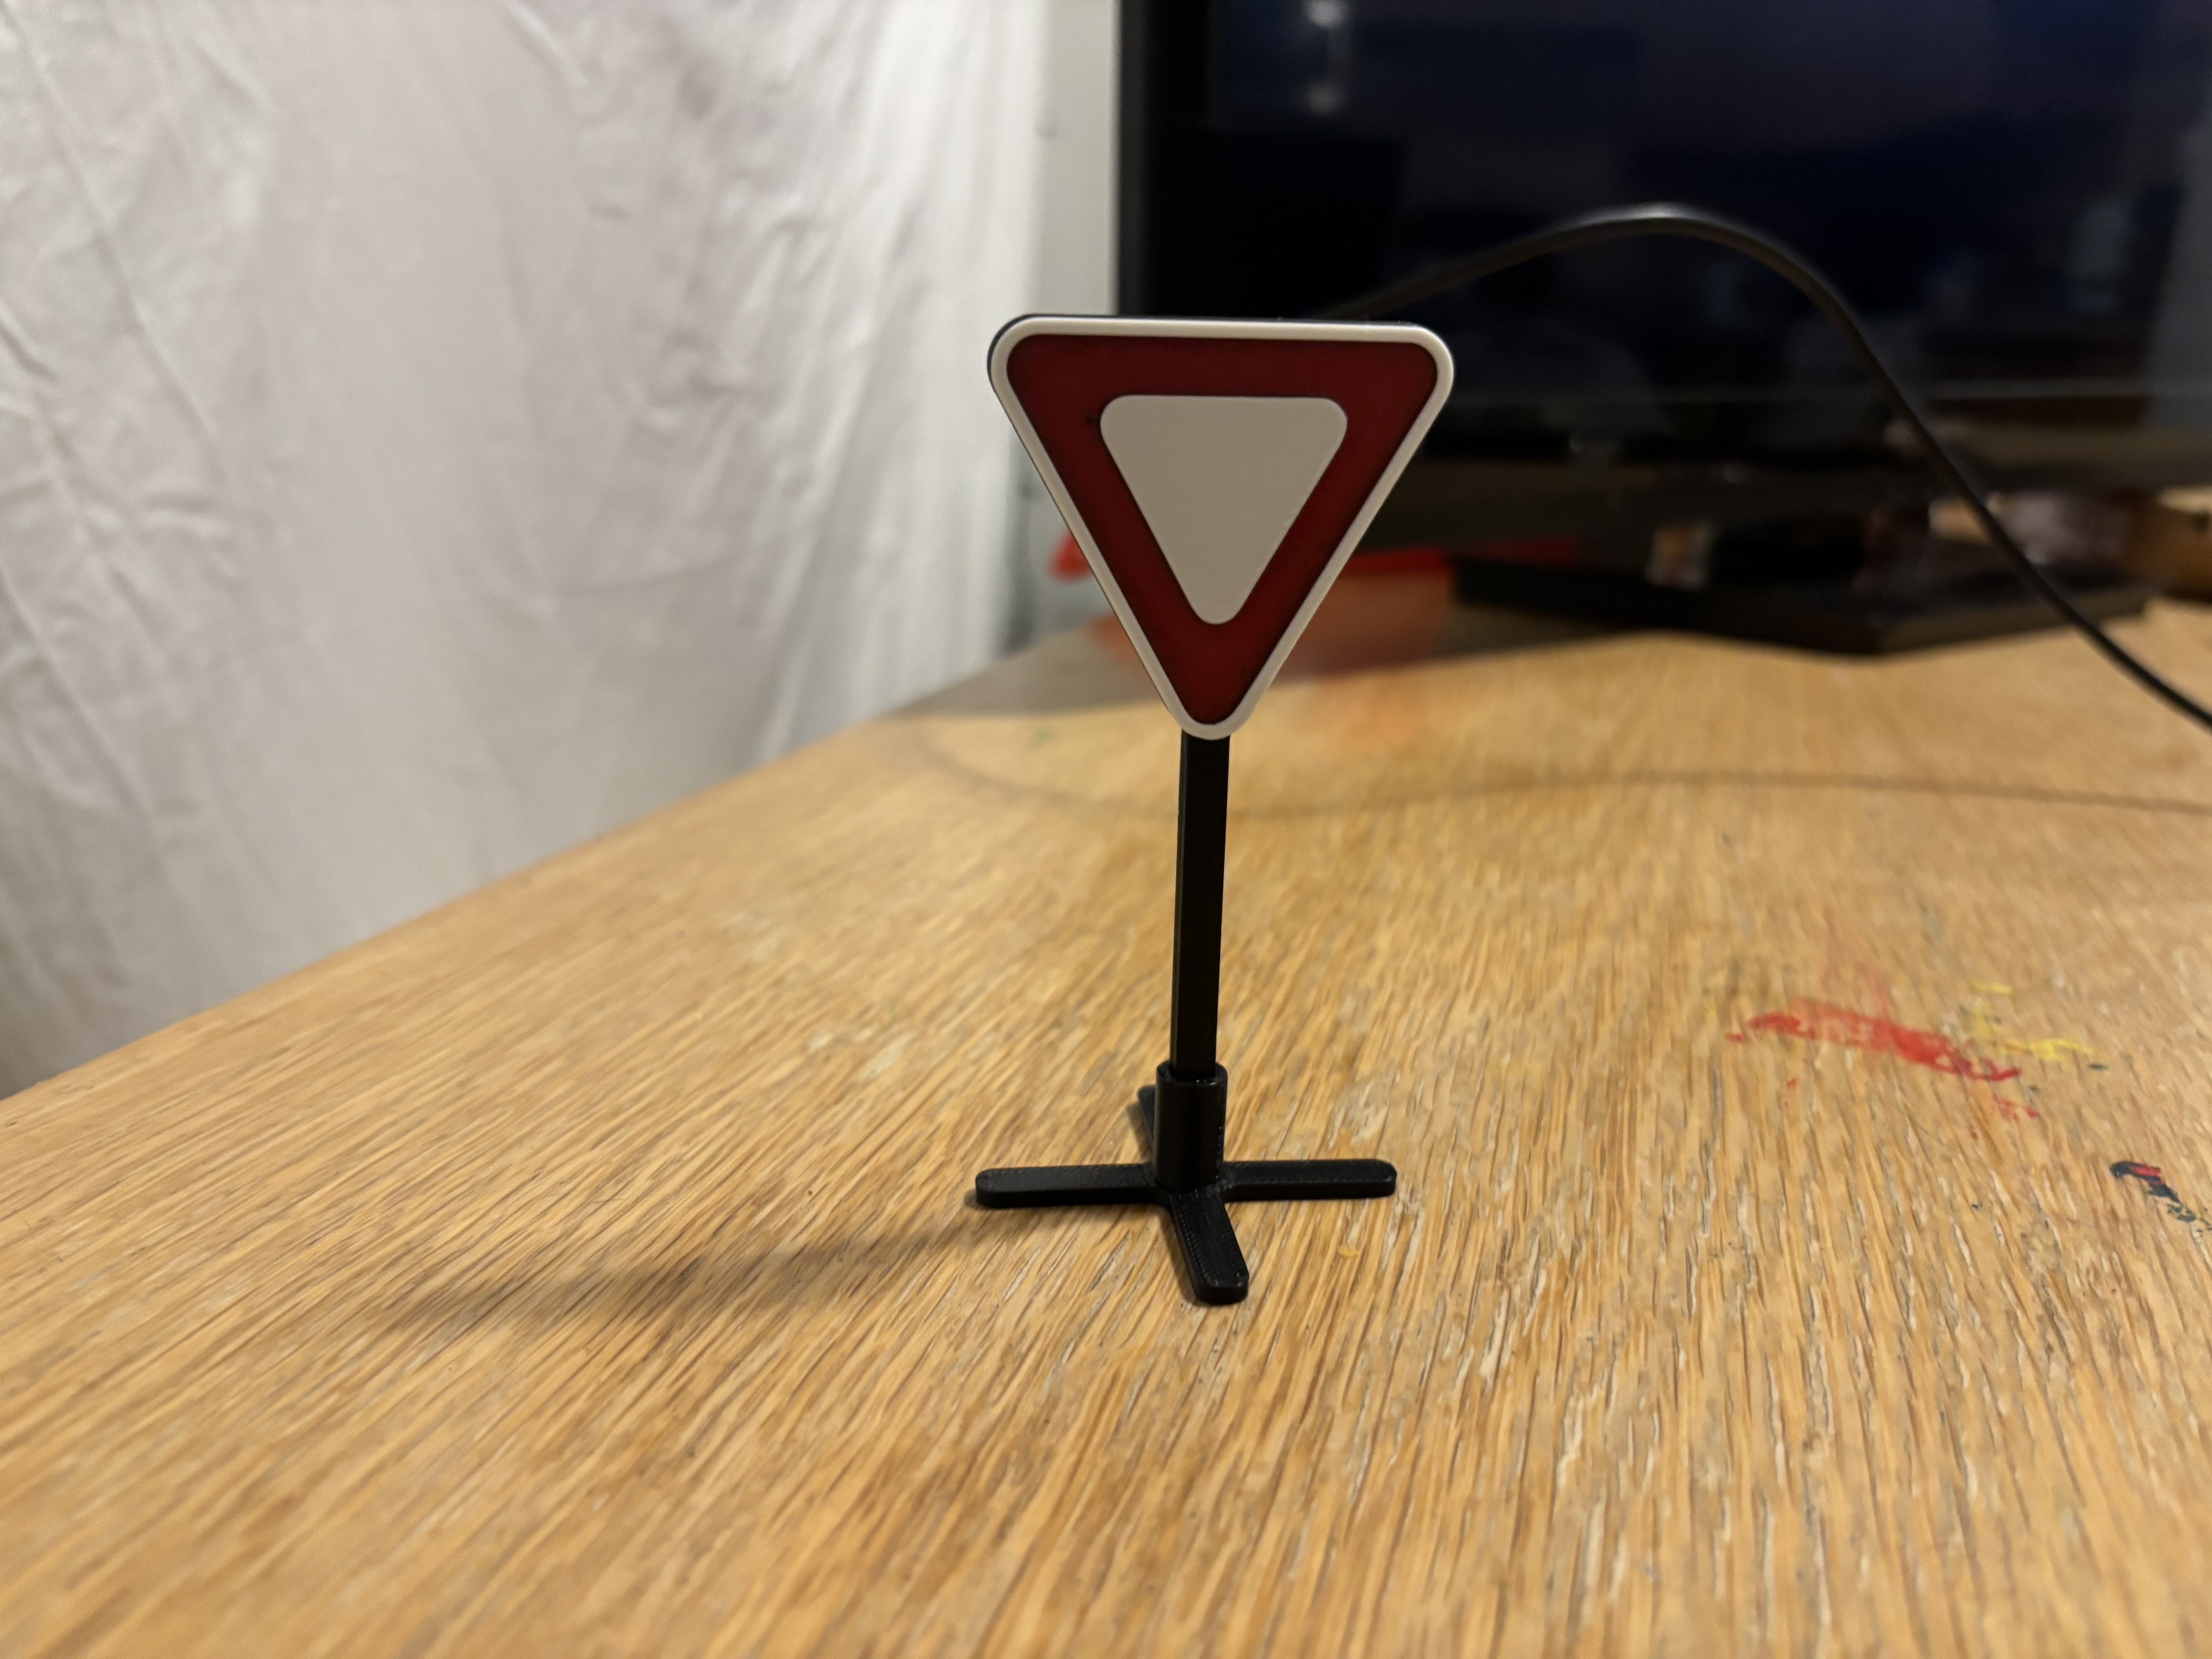sign_yield: (967, 308, 1494, 748)
